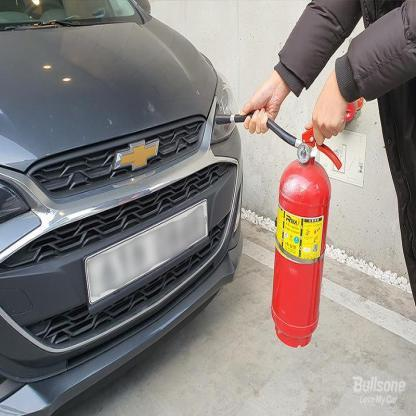Fire Extinguisher: (224, 97, 372, 356)
